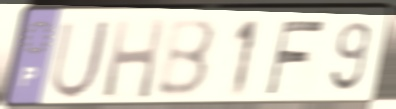1: (231, 17, 263, 99)
9: (328, 19, 373, 94)
B: (154, 17, 219, 100)
F: (263, 17, 329, 97)
H: (99, 16, 168, 103)
U: (47, 17, 115, 102)
